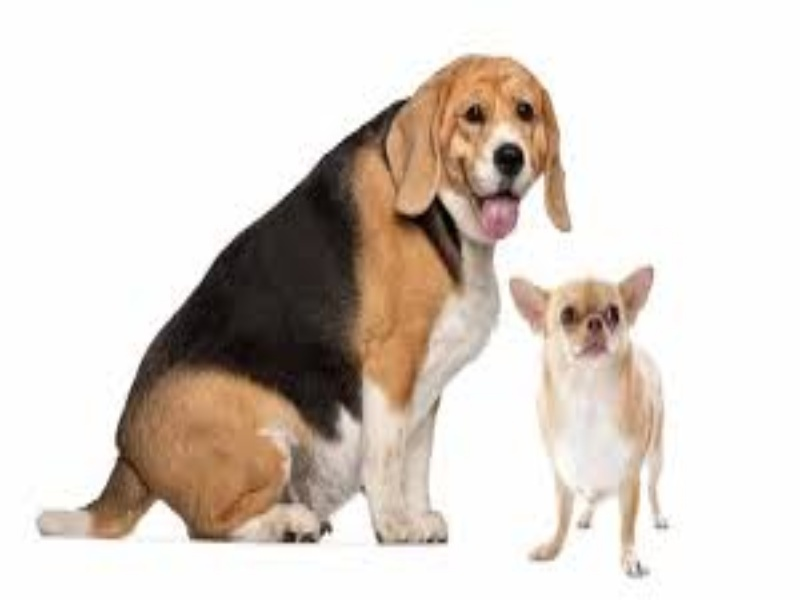dog: (35, 49, 535, 551), (506, 260, 688, 584)
